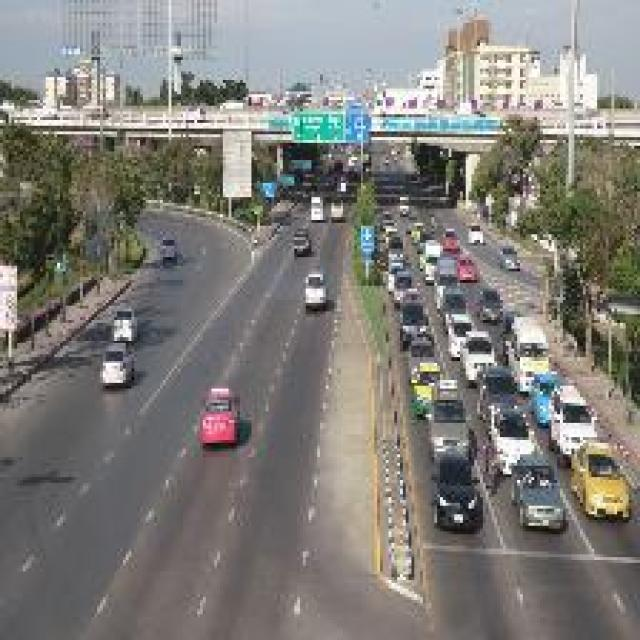other: (178, 369, 254, 449), (590, 445, 627, 530)
